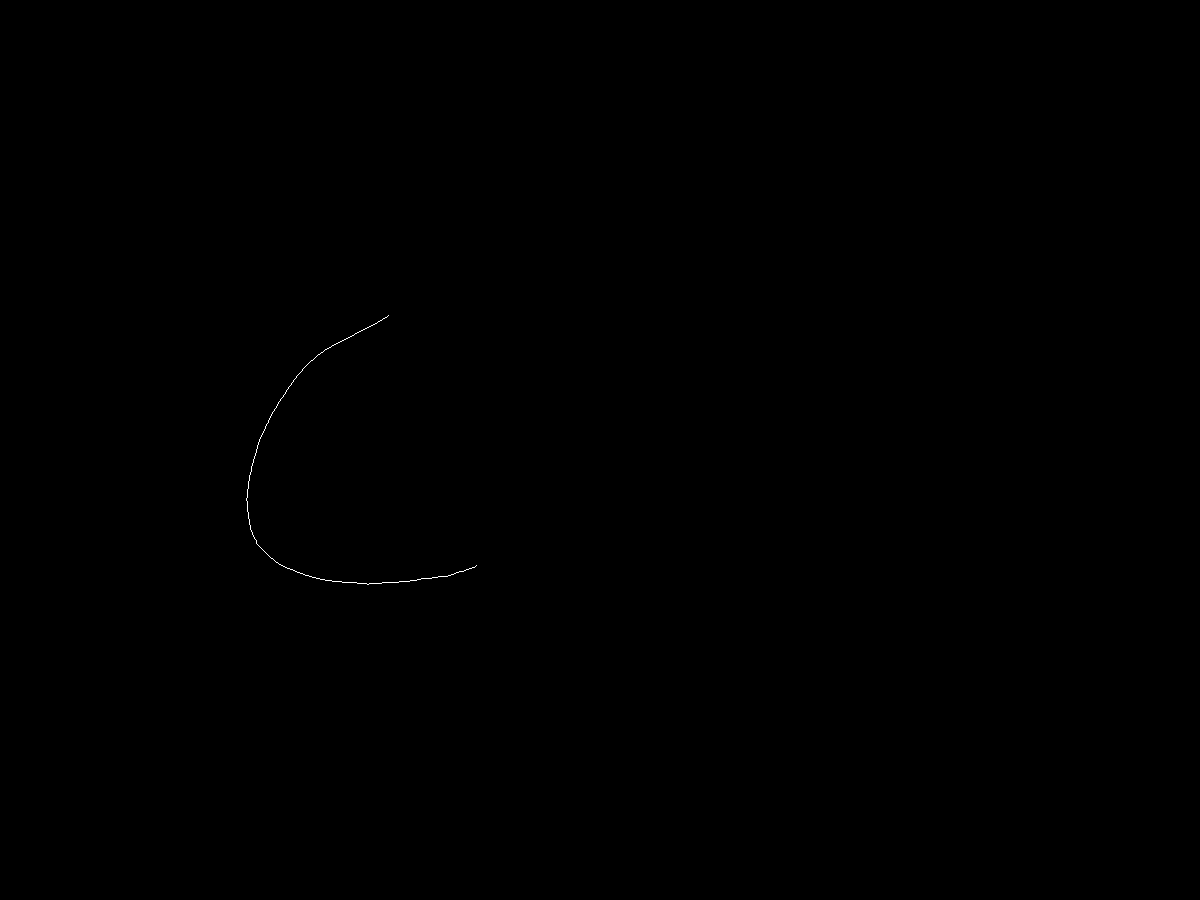dian1: (383, 308, 403, 326)
dian2: (467, 556, 489, 581)
